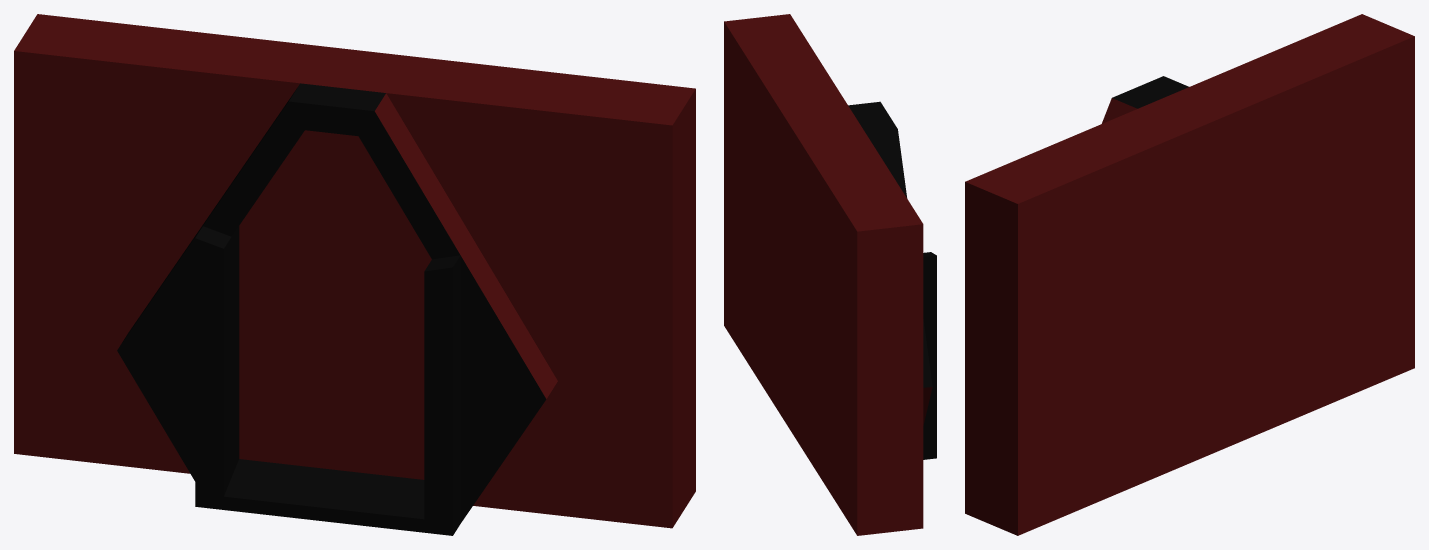
Rendered from Daly65_wall2.FBX.
3 renders of one model, left to right at view 1: azimuth 30°, elevation 25°; view 2: azimuth 150°, elevation 25°; view 3: azimuth 270°, elevation 25°, orthographic. The views are drawn at different scales.
Parts seen in each view (by area): view 1: Daly6.5_wall2; view 2: Daly6.5_wall2; view 3: Daly6.5_wall2.
Boxes of the visible parts, x1=… form: Daly6.5_wall2: x1=14, y1=14, x2=695, y2=535; Daly6.5_wall2: x1=724, y1=14, x2=936, y2=535; Daly6.5_wall2: x1=965, y1=14, x2=1414, y2=535.
Size of the model in its own units: 3685 by 3000 by 3685.
